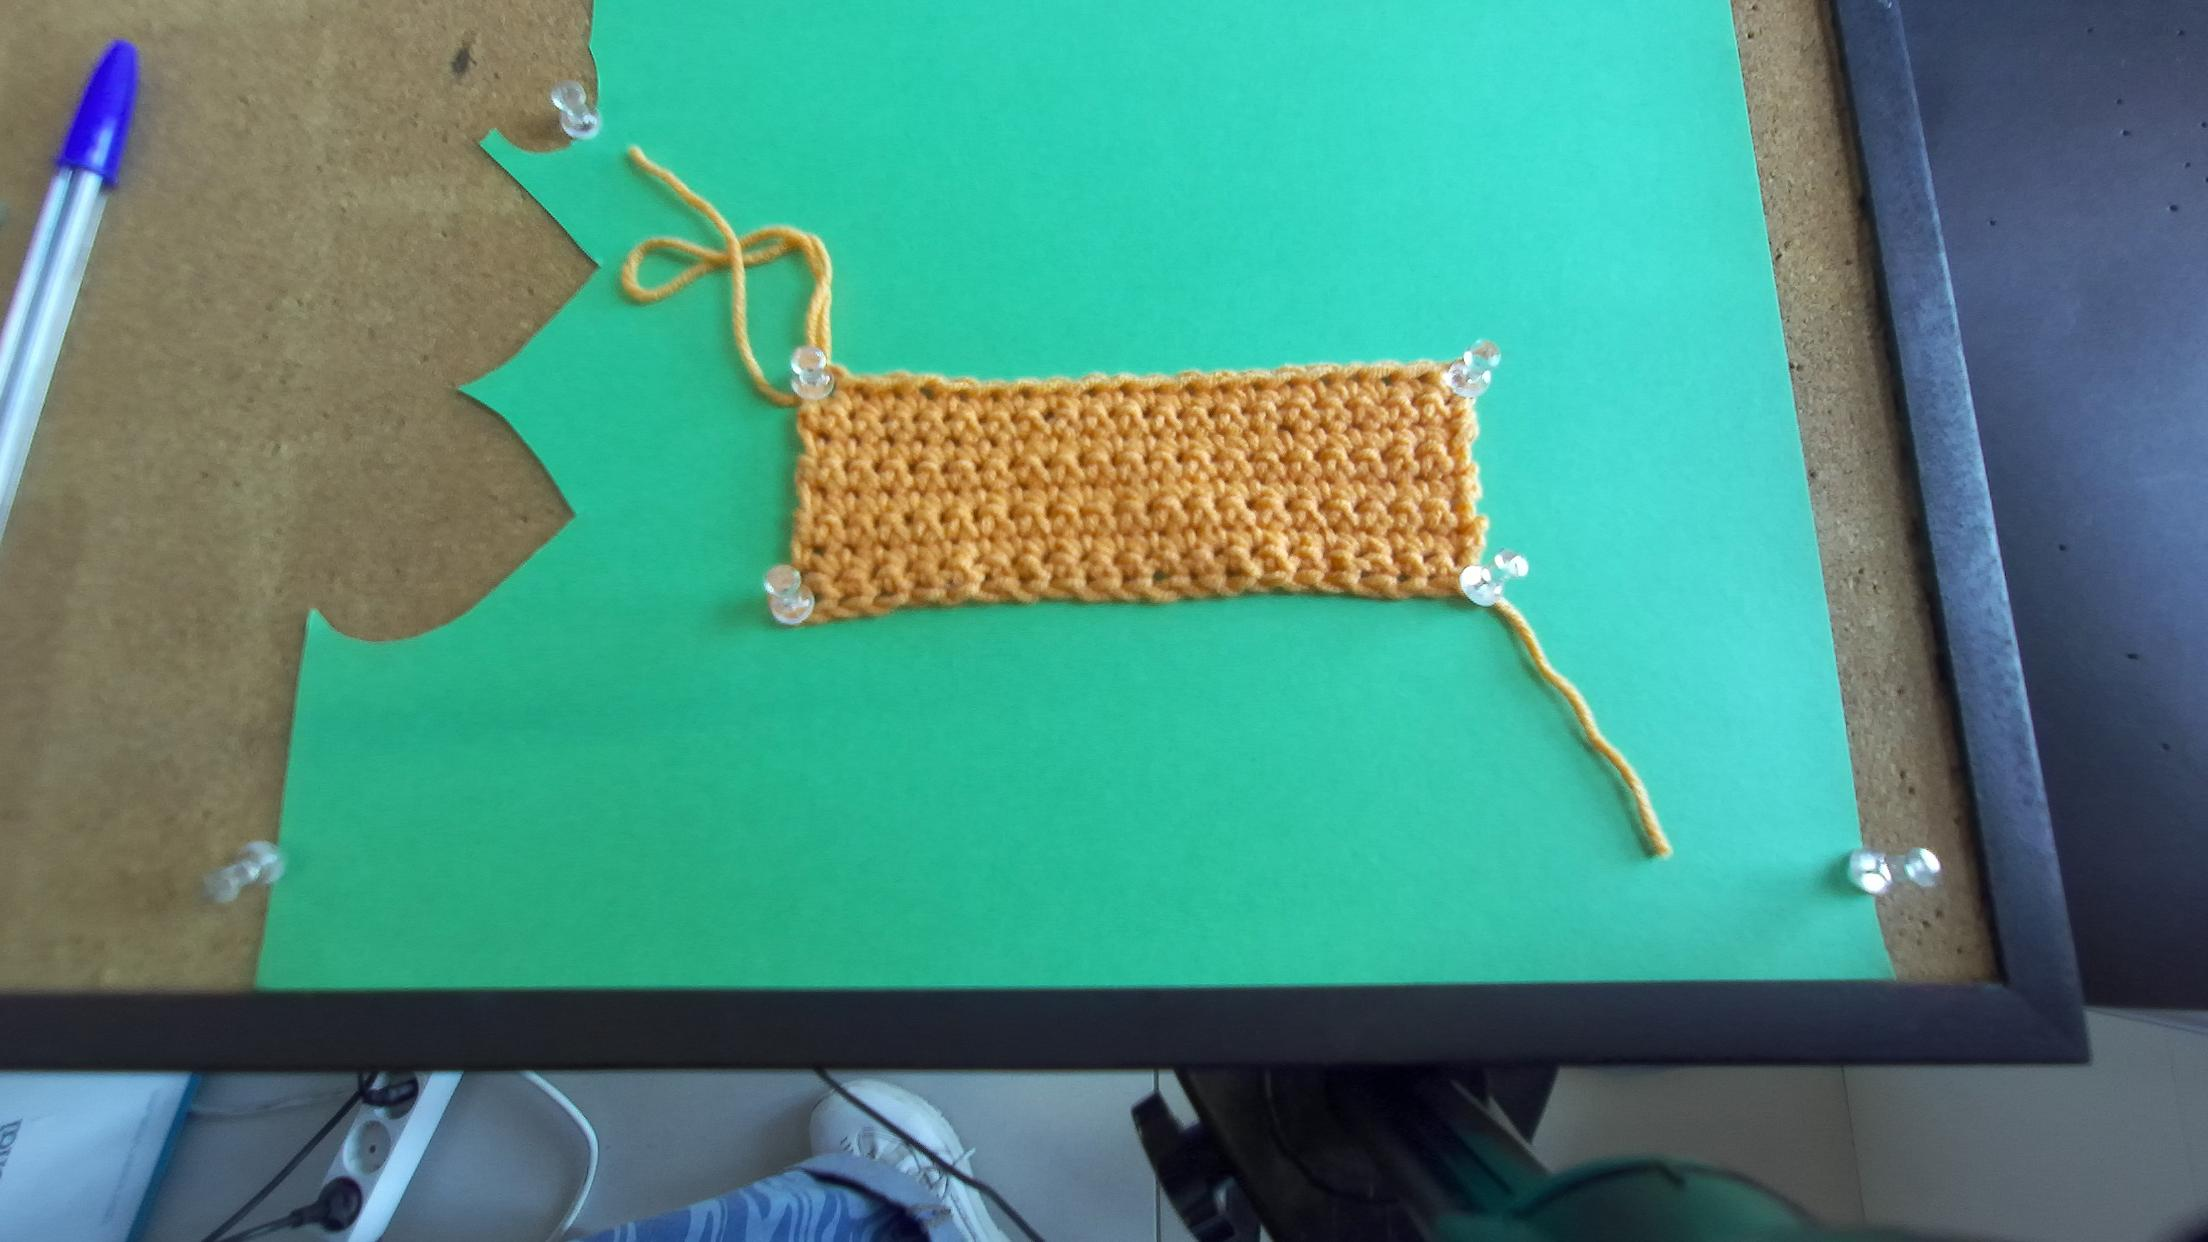hole: (853, 384, 871, 402), (918, 384, 935, 401), (1378, 372, 1396, 387), (888, 385, 904, 401), (1319, 371, 1334, 388), (1413, 371, 1430, 385), (951, 389, 969, 402), (1082, 385, 1098, 398), (1350, 372, 1363, 387), (1184, 380, 1196, 395), (989, 389, 1001, 403), (1218, 382, 1230, 395), (1120, 383, 1131, 397), (1150, 383, 1164, 393), (1019, 388, 1030, 400), (1285, 378, 1297, 389), (1253, 379, 1263, 392), (1050, 388, 1063, 396)
swatch: (773, 346, 1491, 629)
